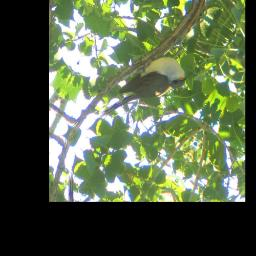Cuckoo: (98, 34, 192, 155)
